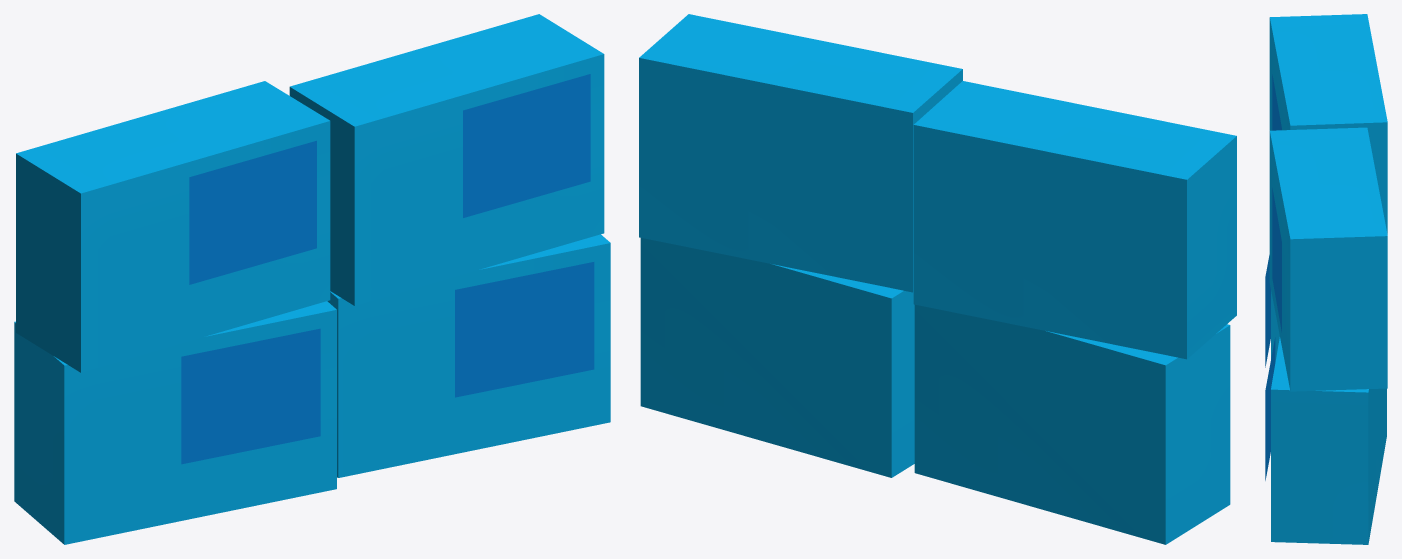
File: shop_051.glb
The picture shows the model from 3 angles, left to right: view 1: azimuth 30°, elevation 25°; view 2: azimuth 150°, elevation 25°; view 3: azimuth 270°, elevation 25°; orthographic projection. The views are drawn at different scales.
Parts seen in each view (by area): view 1: shop_051; view 2: shop_051; view 3: shop_051.
Part boxes in pixels (x1=…): shop_051: x1=14, y1=14, x2=610, y2=544; shop_051: x1=639, y1=14, x2=1236, y2=544; shop_051: x1=1265, y1=14, x2=1387, y2=544.
Bounding box in the file's own units: 0.3119 × 0.196 × 0.0714.
Materials: 1 (1 with a texture image).
